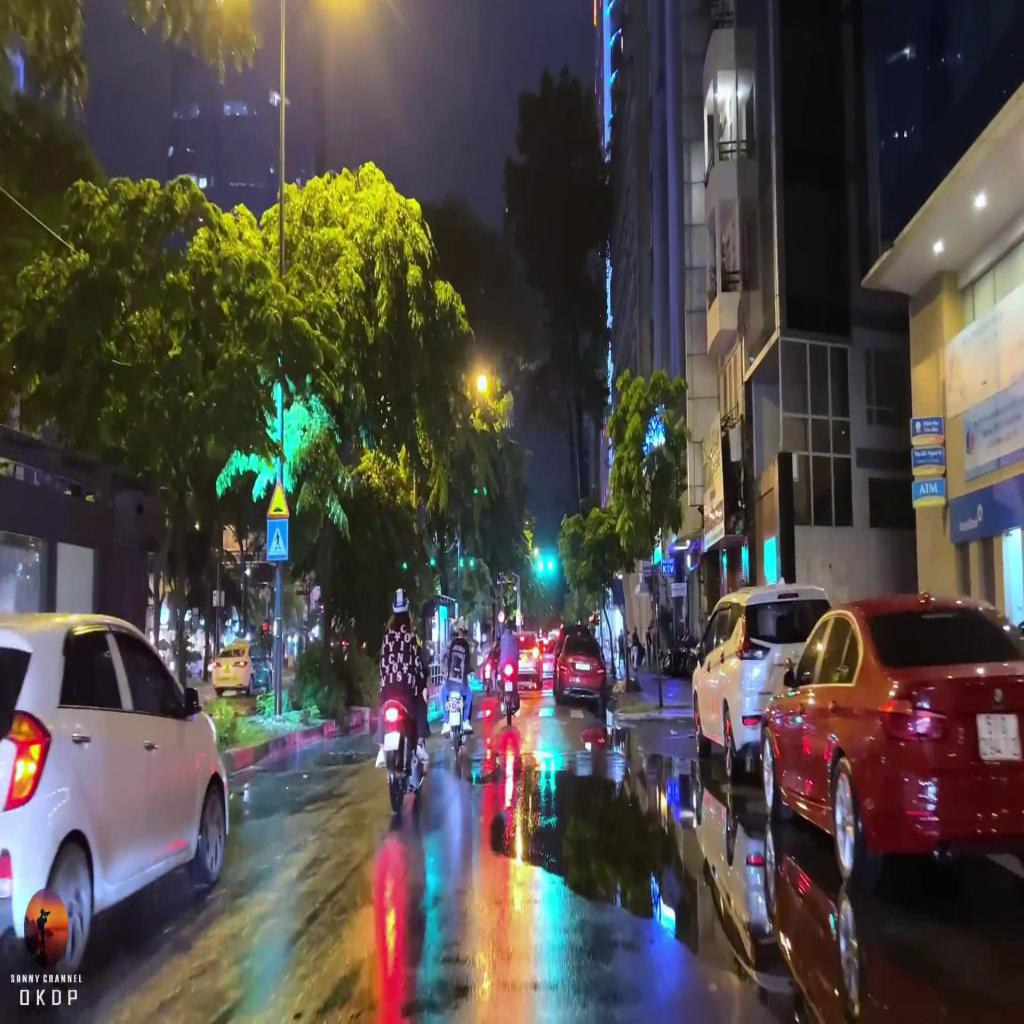duong_co_song_map_mo_nhan_tao: (265, 476, 291, 518)
duong_nguoi_di_bo_sang_ngang: (266, 520, 288, 560)
